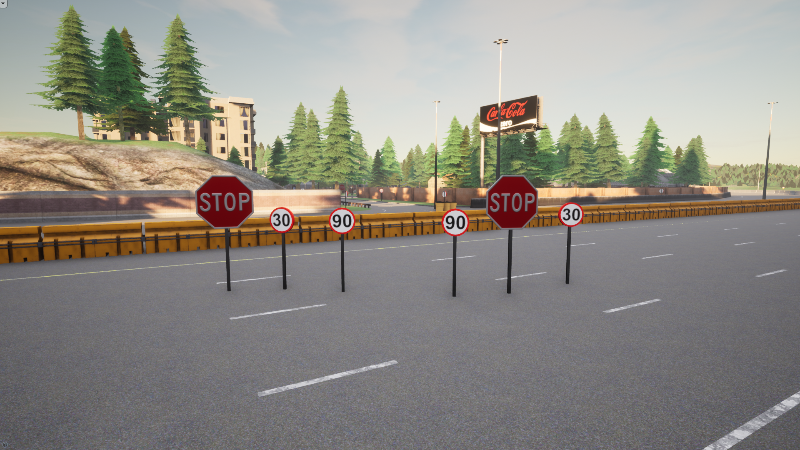fast: (442, 210, 470, 237), (329, 207, 355, 235)
slow: (558, 202, 584, 227), (270, 207, 294, 232)
stop: (194, 174, 255, 229), (486, 173, 540, 231)
